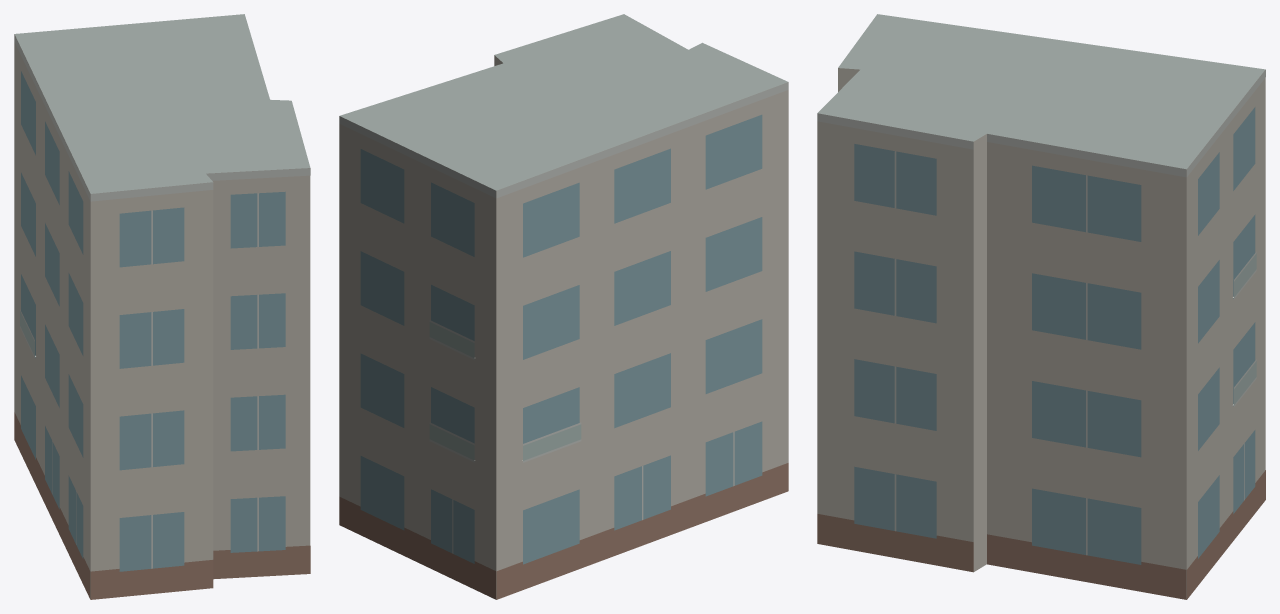
File: survey-upis-32724441.glb
The picture shows the model from 3 angles, left to right: view 1: azimuth 30°, elevation 25°; view 2: azimuth 150°, elevation 25°; view 3: azimuth 270°, elevation 25°; orthographic projection. The views are drawn at different scales.
Visible parts, largest first — view 1: survey-upis-32724441.tmp; view 2: survey-upis-32724441.tmp; view 3: survey-upis-32724441.tmp.
Boxes of the visible parts, x1,y1,x2,y2 form: survey-upis-32724441.tmp: (14, 14, 310, 599); survey-upis-32724441.tmp: (339, 14, 788, 599); survey-upis-32724441.tmp: (817, 14, 1265, 599).
Size of the model in its own units: 10.03 by 12.96 by 12.24.
